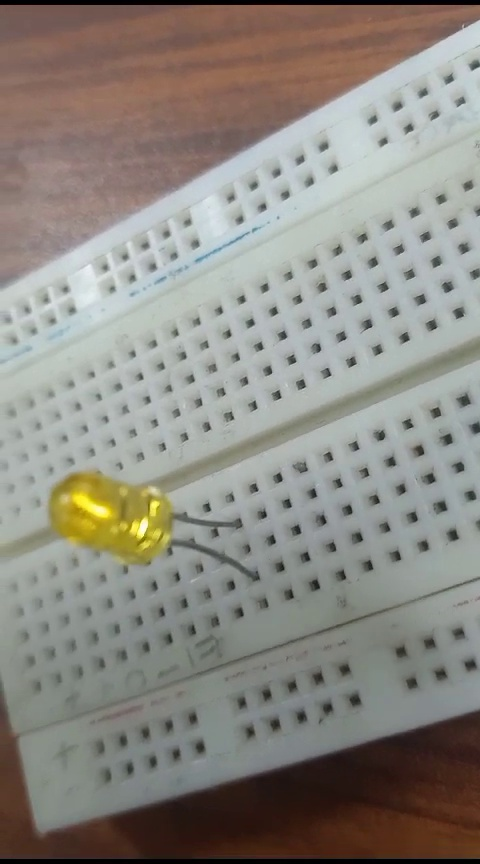LED: (47, 465, 258, 580)
